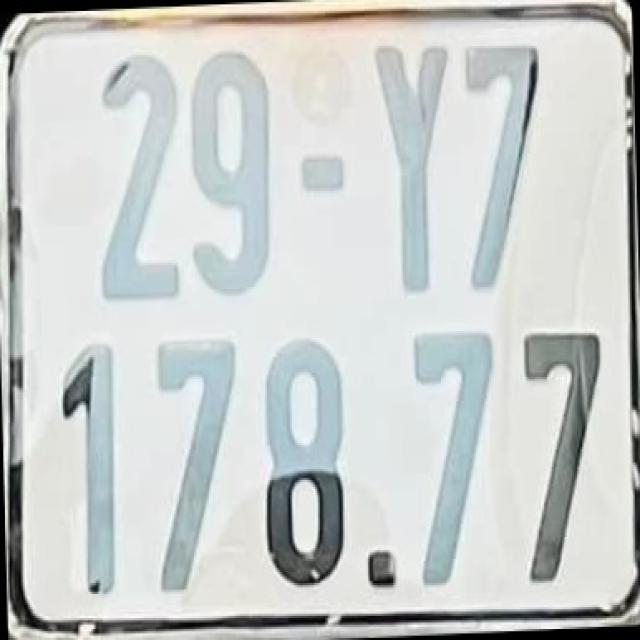1: (56, 338, 130, 598)
2: (92, 47, 185, 308)
7: (404, 321, 498, 591), (146, 327, 240, 596), (517, 323, 602, 584), (460, 36, 540, 293)
8: (256, 324, 354, 590)
9: (184, 42, 279, 298)
Y: (371, 32, 450, 295)
